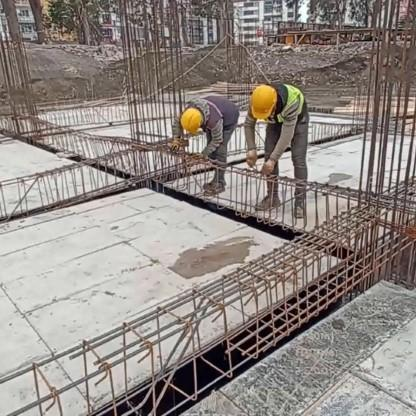helmet: (241, 74, 286, 127), (178, 94, 209, 129)
